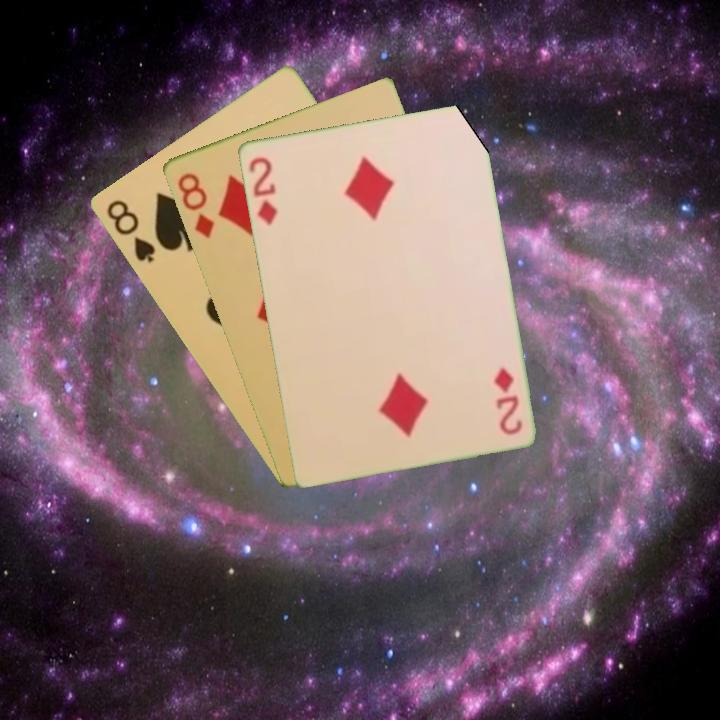2d: (244, 153, 280, 228), (490, 363, 525, 438)
8d: (173, 169, 217, 242)
8s: (102, 196, 158, 266)
